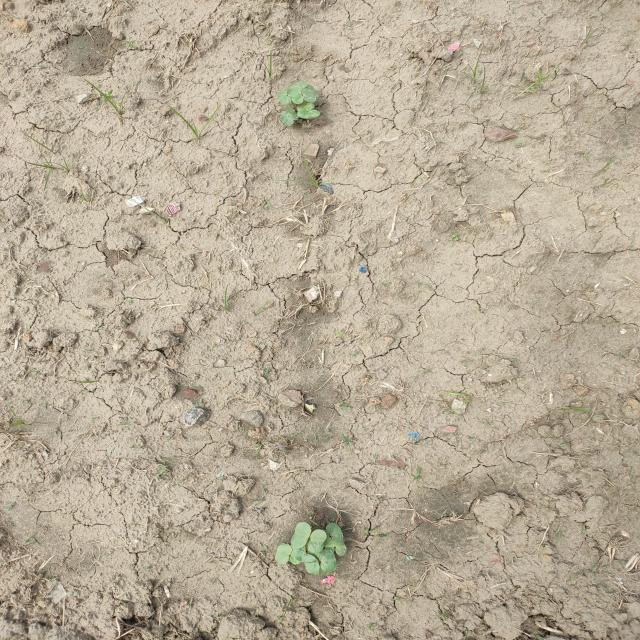seedling_s2: (322, 530, 347, 556), (291, 522, 311, 548), (308, 529, 327, 553), (318, 549, 337, 572), (302, 554, 320, 576), (275, 543, 292, 565), (297, 103, 320, 119), (290, 545, 306, 565), (326, 523, 343, 541), (300, 90, 319, 103), (287, 89, 303, 104), (276, 91, 291, 105), (280, 113, 294, 126), (290, 81, 308, 91), (284, 108, 299, 120)
